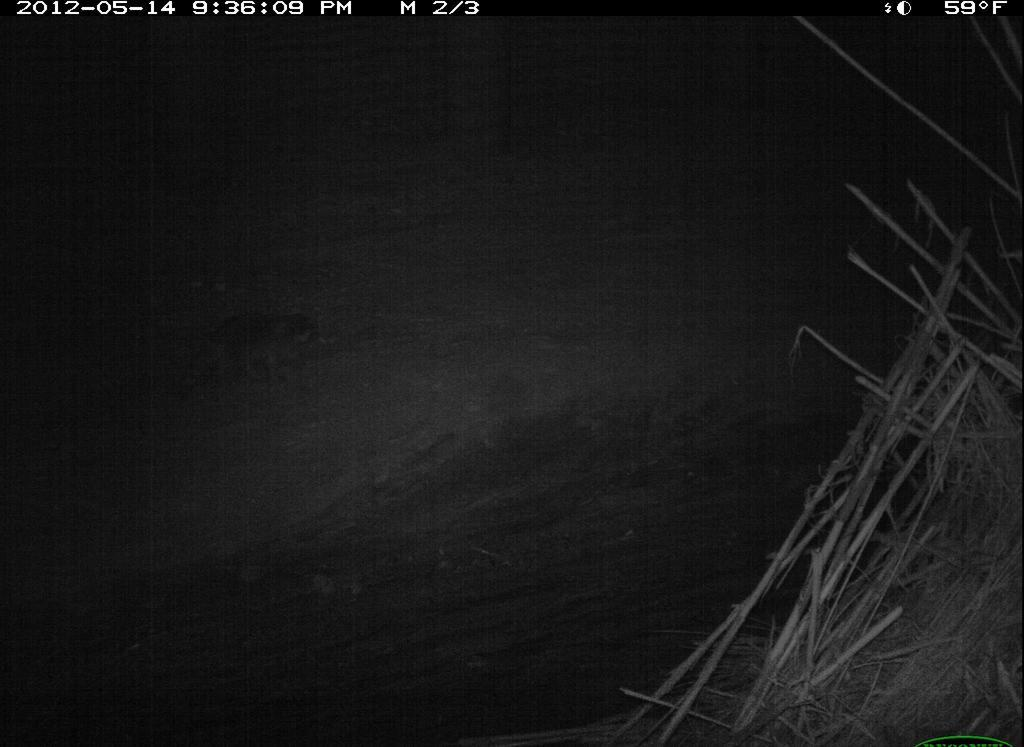raccoon: (169, 290, 356, 420)
